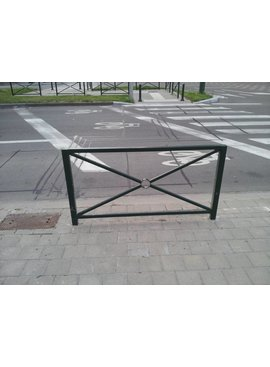Fence: (60, 148, 228, 224)
